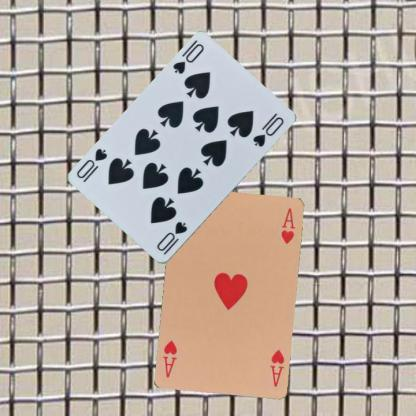10s: (154, 219, 189, 257), (170, 41, 206, 76)
Ah: (267, 346, 285, 388)
